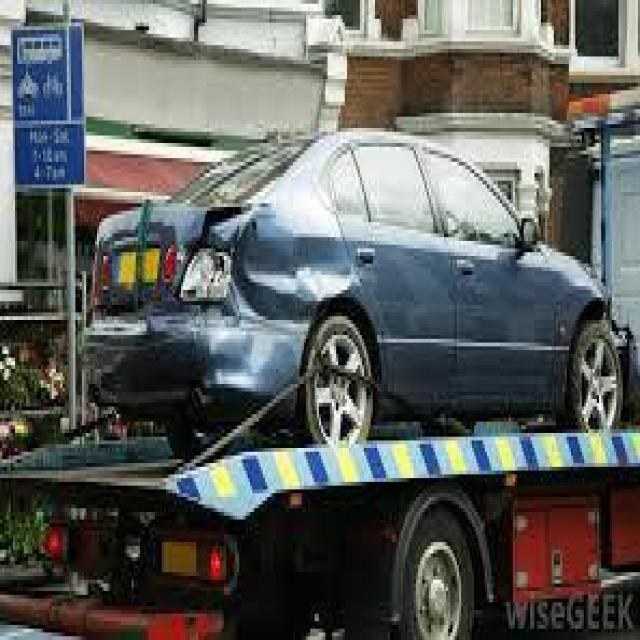damaged: (175, 207, 362, 339), (246, 320, 278, 380)
